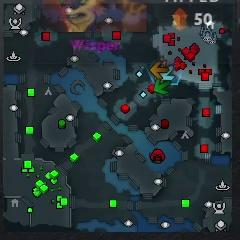x3: (159, 65, 176, 82)
x4: (154, 79, 170, 95)
x5: (151, 60, 169, 78)
